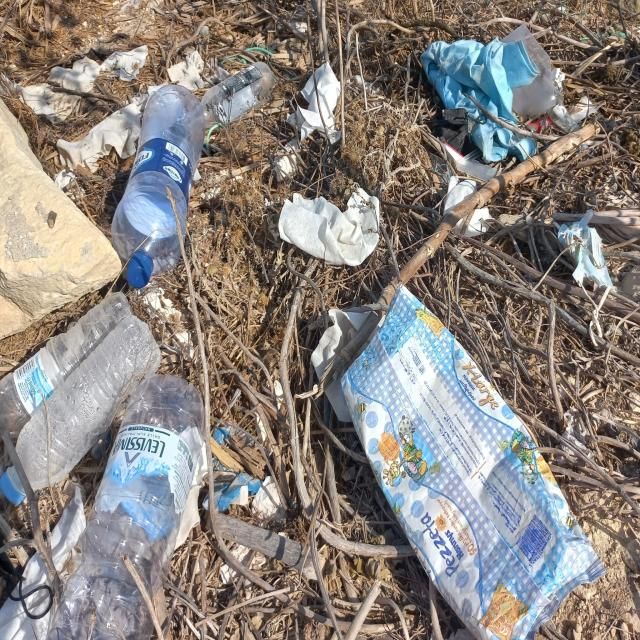Bottle: (46, 373, 210, 640), (1, 310, 164, 507), (0, 285, 135, 443), (110, 84, 208, 294), (198, 59, 277, 130)
Other litter: (56, 48, 213, 190), (412, 23, 556, 162), (3, 43, 151, 126), (559, 207, 621, 351), (277, 186, 382, 267), (287, 55, 347, 149), (524, 67, 603, 137), (443, 175, 496, 239), (433, 105, 486, 154)
Other plastic: (200, 421, 290, 585), (0, 476, 87, 640)
Plastic bag - wrapper: (310, 284, 607, 639)
